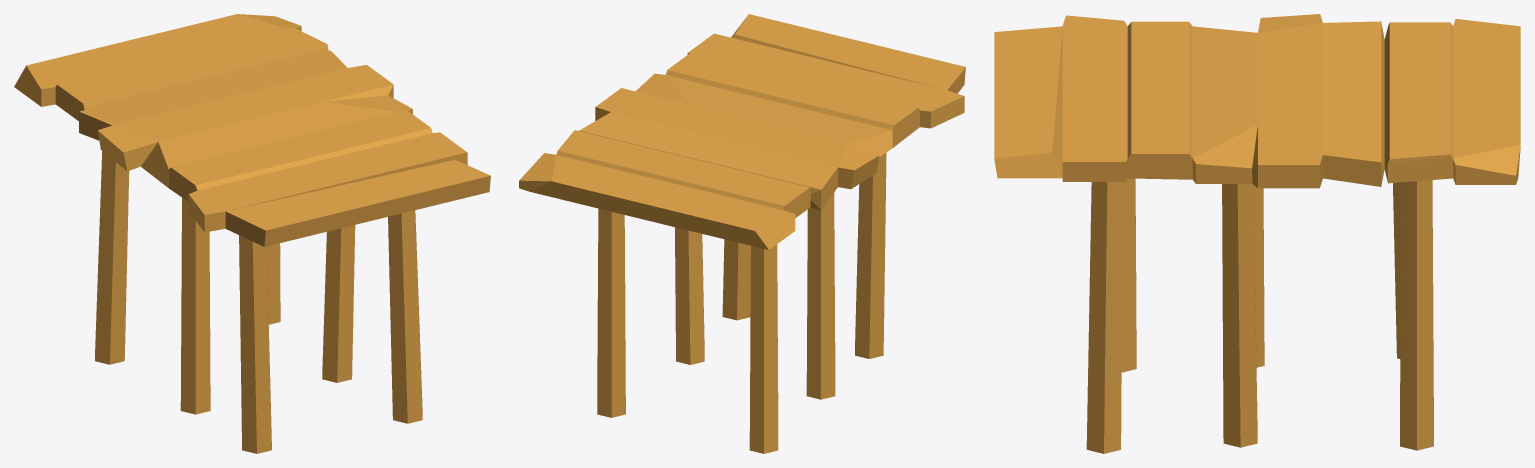
File: pirate-platform-small.fbx
3 renders of one model, left to right at view 1: azimuth 30°, elevation 25°; view 2: azimuth 150°, elevation 25°; view 3: azimuth 270°, elevation 25°, orthographic. The views are drawn at different scales.
Visible parts, largest first — view 1: pirate-platform-small; view 2: pirate-platform-small; view 3: pirate-platform-small.
Part boxes in pixels (<box>): pirate-platform-small: <box>14,14,490,453</box>; pirate-platform-small: <box>519,14,965,453</box>; pirate-platform-small: <box>994,14,1520,453</box>.
Bounding box in the file's own units: 2.83 × 2.69 × 4.13.
